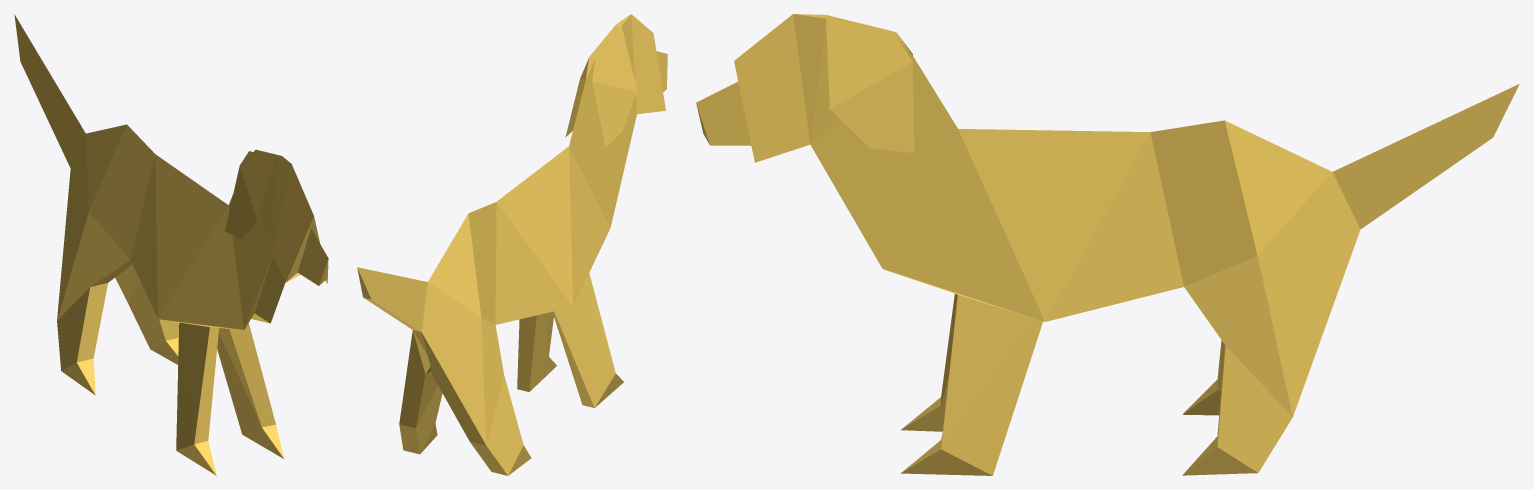
File: dog.glb
The picture shows the model from 3 angles, left to right: view 1: azimuth 30°, elevation 25°; view 2: azimuth 150°, elevation 25°; view 3: azimuth 270°, elevation 25°; orthographic projection. The views are drawn at different scales.
Parts seen in each view (by area): view 1: Dog; view 2: Dog; view 3: Dog.
Part boxes in pixels (x1,y1,x2,y2): Dog: (14, 14, 328, 475); Dog: (357, 14, 667, 475); Dog: (696, 14, 1519, 475).
Size of the model in its own units: 0.4865 by 1.46 by 2.5.
